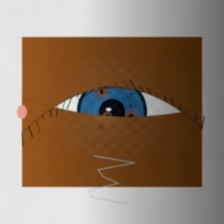foreign_body_visible: (111, 102, 151, 134)
